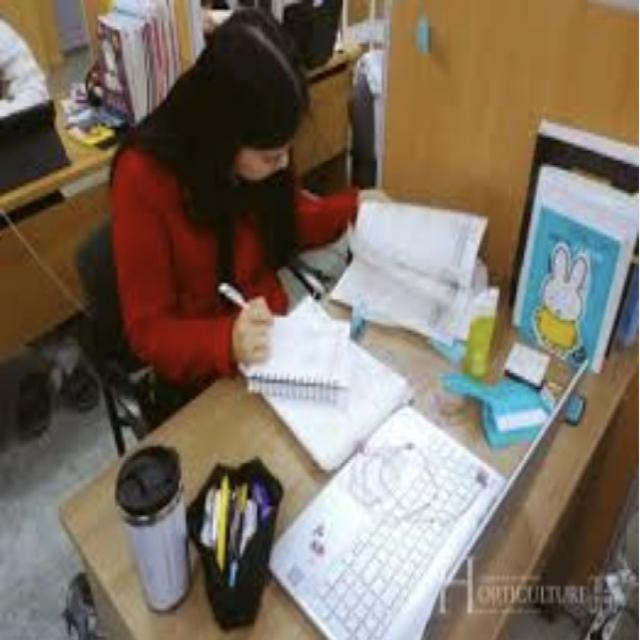studying-person: (92, 13, 532, 481)
